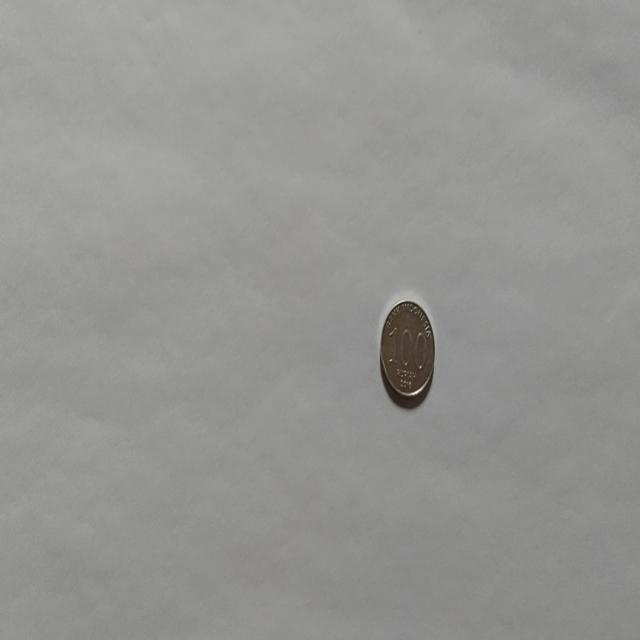seratus rupiah: (378, 298, 436, 402)
